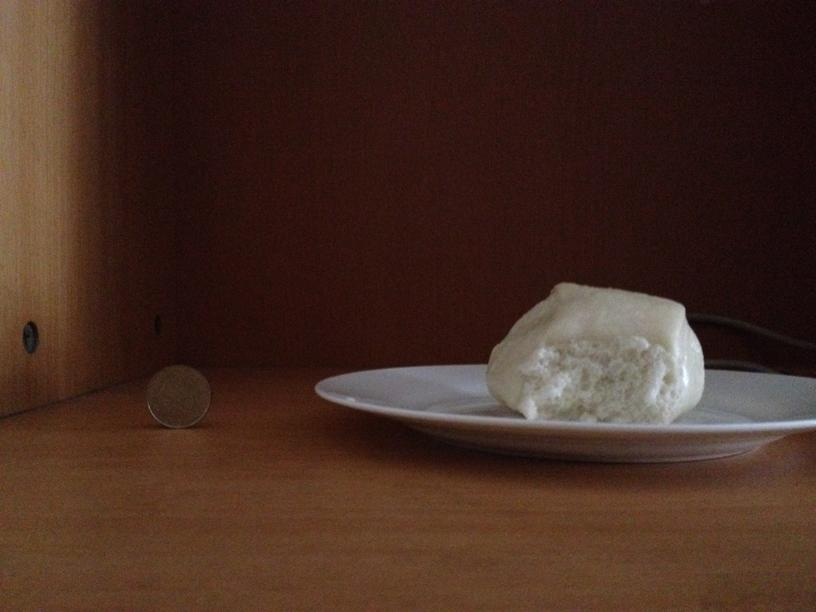bun: (482, 284, 707, 424)
coin: (143, 365, 213, 428)
